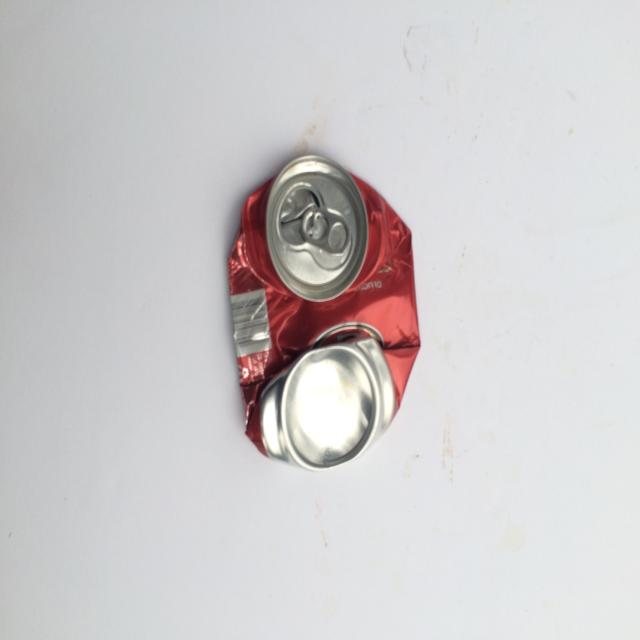metal: (211, 87, 431, 480)
